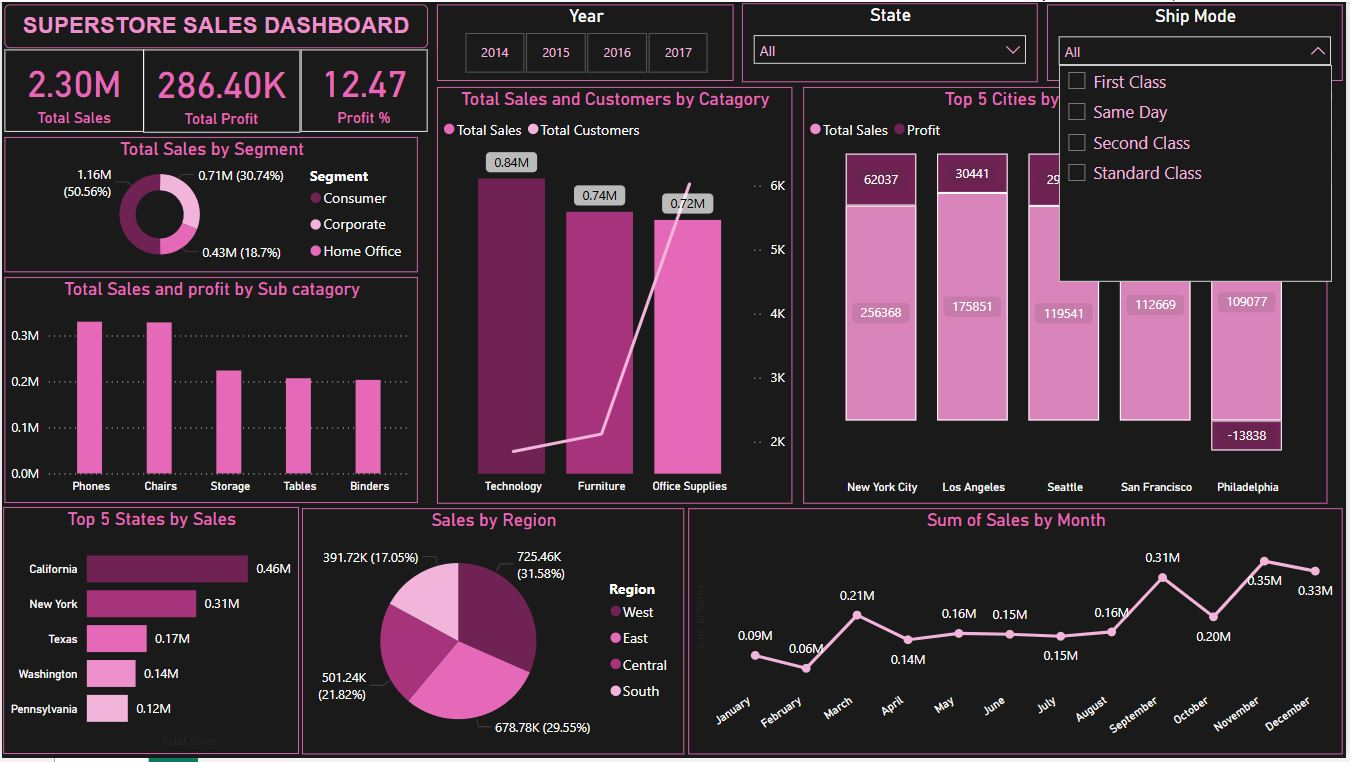

Layout of this report page (visuals, bound fields, positions):
{"tool":"powerbi","page":{"name":"Page 1","canvas":[1280,720],"ordinal":0},"visuals":[{"type":"lineChart","fields":{"Y":["Sum(super store sales week 1.Sales)"],"Category":["super store sales week 1.Order Date.Variation.Date Hierarchy.Month"]},"box":[653.2,481.6,623,234.6],"z":0},{"type":"slicer","title":"Year","fields":{"Values":["super store sales week 1.Order Date.Variation.Date Hierarchy.Year"]},"box":[414.4,2.7,282.7,72.7],"z":1000},{"type":"card","fields":{"Values":["Sum(super store sales week 1.Sales)"]},"box":[0,39.8,133.1,78.2],"z":2000},{"type":"card","fields":{"Values":["Sum(super store sales week 1.Profit)"]},"box":[133.1,39.8,149.6,79.6],"z":3000},{"type":"card","fields":{"Values":["super store sales week 1.Profit divided by Sales"]},"box":[282.7,39.8,120.8,78.2],"z":4000},{"type":"pieChart","title":"Sales by Region","fields":{"Category":["super store sales week 1.Region"],"Y":["Sum(super store sales week 1.Sales)"]},"box":[285.4,481.6,363.6,234.6],"z":5000},{"type":"lineClusteredColumnComboChart","title":"Total Sales and Customers by Catagory","fields":{"Category":["super store sales week 1.Category"],"Y":["Sum(super store sales week 1.Sales)"],"Y2":["CountNonNull(super store sales week 1.Customer ID)"]},"box":[414.4,81,326.6,396.6],"z":6000},{"type":"ribbonChart","title":"Total Sales and profit by Sub catagory","fields":{"Category":["super store sales week 1.Sub-Category"],"Y":["Sum(super store sales week 1.Sales)"]},"box":[2.7,262.1,393.8,215.4],"z":7000},{"type":"slicer","title":"Ship Mode","fields":{"Values":["super store sales week 1.Ship Mode"]},"box":[994.9,2.7,281.3,72.7],"z":8000},{"type":"slicer","title":"State","fields":{"Values":["super store sales week 1.State"]},"box":[705.3,1.4,281.3,75.5],"z":9000},{"type":"clusteredBarChart","title":"Top 5 States by Sales","fields":{"Category":["super store sales week 1.State"],"Y":["Sum(super store sales week 1.Sales)"]},"box":[1.4,481.2,281.3,235],"z":10000},{"type":"textbox","box":[0,0,403.4,43.9],"z":11000},{"type":"donutChart","title":"Total Sales by Segment","fields":{"Category":["super store sales week 1.Segment"],"Y":["Sum(super store sales week 1.Sales)"]},"box":[2.7,129,393.8,129],"z":12000},{"type":"hundredPercentStackedColumnChart","title":"Top 5 Cities by Sales and Profit","fields":{"Category":["super store sales week 1.City"],"Y":["Sum(super store sales week 1.Sales)","Sum(super store sales week 1.Profit)"]},"box":[763,81,499.5,396.6],"z":13000}]}

Visuals, with their boxes in screenshot pixels (x1, y1, x2, y2), scaled from the page's 1280x720 canvas onto the 1350x762 screenshot:
lineChart - Sum(super store sales week 1.Sales) x super store sales week 1.Order Date.Variation.Date Hierarchy.Month: x1=689 y1=510 x2=1346 y2=758
"Year" slicer: x1=437 y1=3 x2=735 y2=80
card - Sum(super store sales week 1.Sales): x1=0 y1=42 x2=140 y2=125
card - Sum(super store sales week 1.Profit): x1=140 y1=42 x2=298 y2=126
card - super store sales week 1.Profit divided by Sales: x1=298 y1=42 x2=426 y2=125
"Sales by Region" pieChart: x1=301 y1=510 x2=684 y2=758
"Total Sales and Customers by Catagory" lineClusteredColumnComboChart: x1=437 y1=86 x2=782 y2=505
"Total Sales and profit by Sub catagory" ribbonChart: x1=3 y1=277 x2=418 y2=505
"Ship Mode" slicer: x1=1049 y1=3 x2=1346 y2=80
"State" slicer: x1=744 y1=1 x2=1041 y2=81
"Top 5 States by Sales" clusteredBarChart: x1=1 y1=509 x2=298 y2=758
textbox: x1=0 y1=0 x2=425 y2=46
"Total Sales by Segment" donutChart: x1=3 y1=137 x2=418 y2=273
"Top 5 Cities by Sales and Profit" hundredPercentStackedColumnChart: x1=805 y1=86 x2=1332 y2=505
